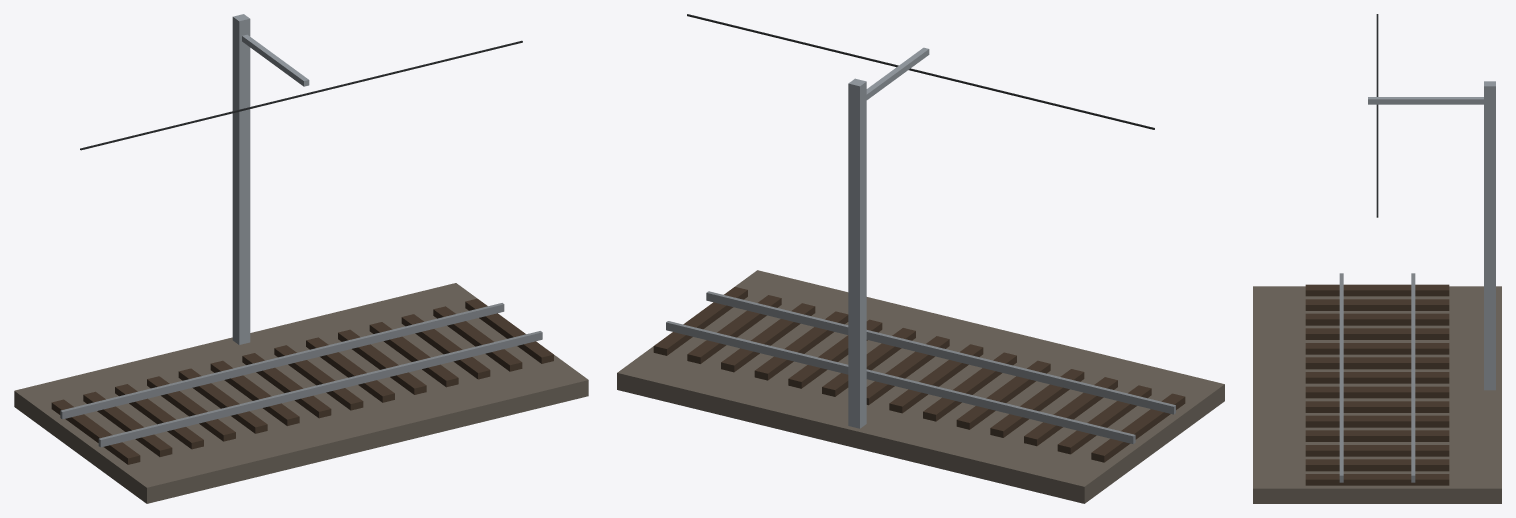
The model's file is rail.glb.
The picture shows the model from 3 angles, left to right: view 1: azimuth 30°, elevation 25°; view 2: azimuth 150°, elevation 25°; view 3: azimuth 270°, elevation 25°; orthographic projection. The views are drawn at different scales.
Visible parts, largest first — view 1: rail; view 2: rail; view 3: rail.
Part boxes in pixels (x1,y1,x2,y2): rail: (14,14,588,503); rail: (617,14,1224,503); rail: (1253,14,1501,503).
Bounding box in the file's own units: 10 × 7.35 × 5.2.
